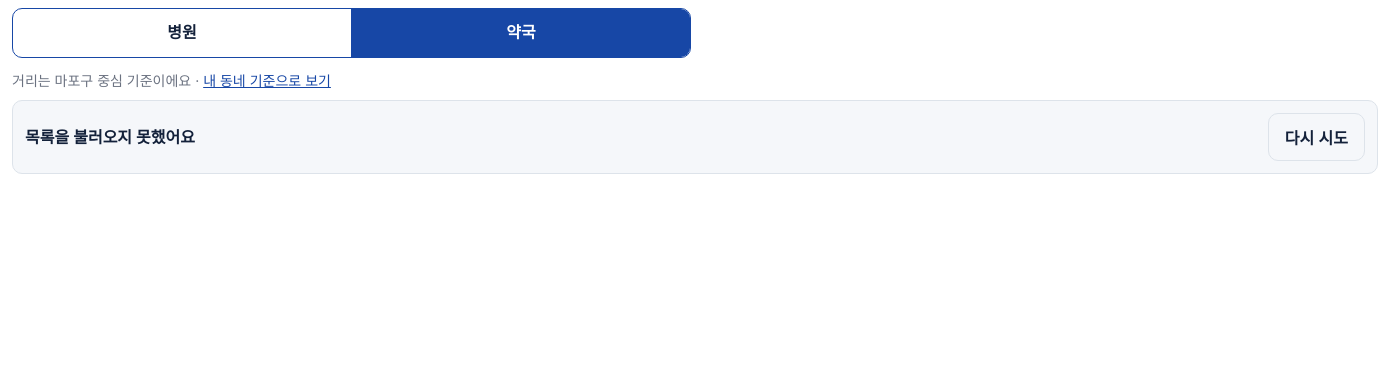
Test case: RegionScreen (D69) › a failed region list shows retry, which loads again
Check: the text "목록을 불러오지 못했어요" is shown, box [25,125,195,150]
Click the button "다시 시도": coordinates (1316, 137) [1268,113,1365,161]
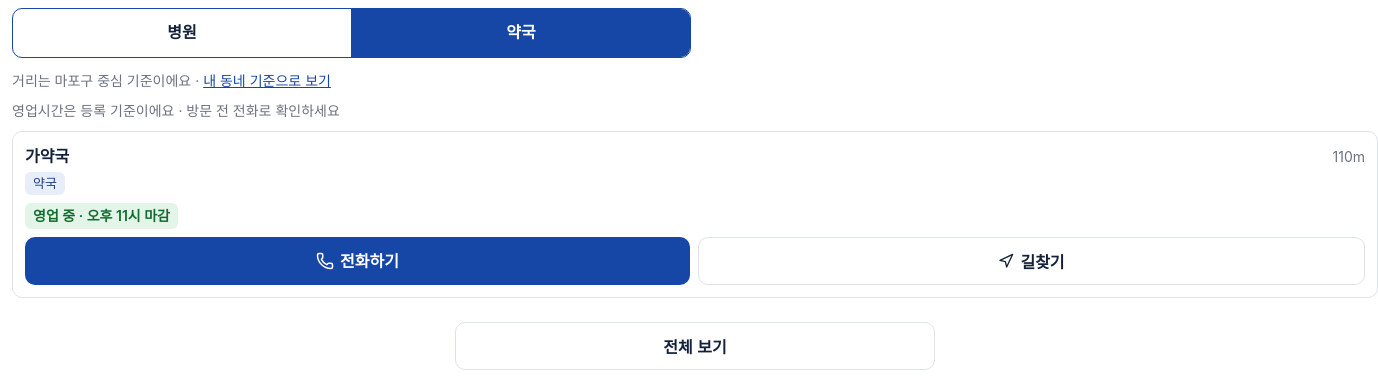
Check: the number of list items is 1, box [12,131,1377,298]
